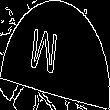M_S: (39, 26, 71, 84)
